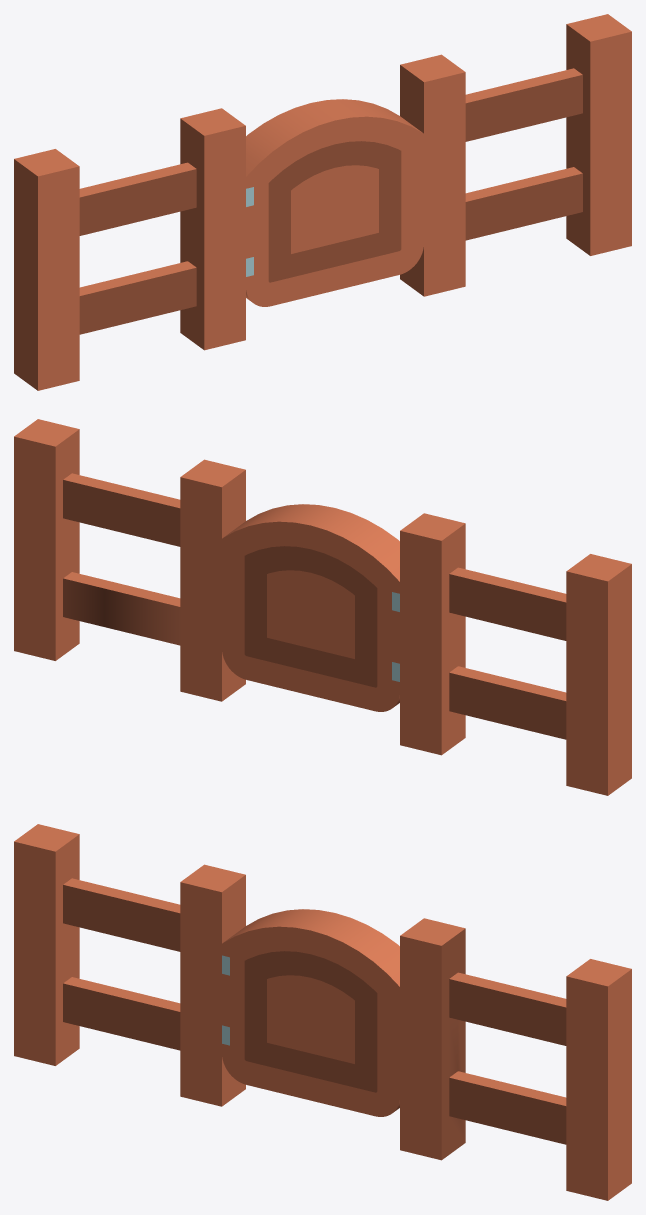
The model's file is gate.glb.
3 renders of one model, top to bottom at view 1: azimuth 30°, elevation 25°; view 2: azimuth 150°, elevation 25°; view 3: azimuth 330°, elevation 25°, orthographic.
Parts seen in each view (by area): view 1: fence_gate, gate; view 2: fence_gate, gate; view 3: fence_gate, gate.
Part boxes in pixels (bbox=[...]): fence_gate: bbox=[14, 14, 631, 390]; gate: bbox=[246, 99, 423, 306]; fence_gate: bbox=[14, 419, 631, 795]; gate: bbox=[222, 504, 399, 711]; fence_gate: bbox=[14, 824, 631, 1200]; gate: bbox=[222, 909, 399, 1116].
Bounding box in the file's own units: 1 × 0.345 × 0.07.
